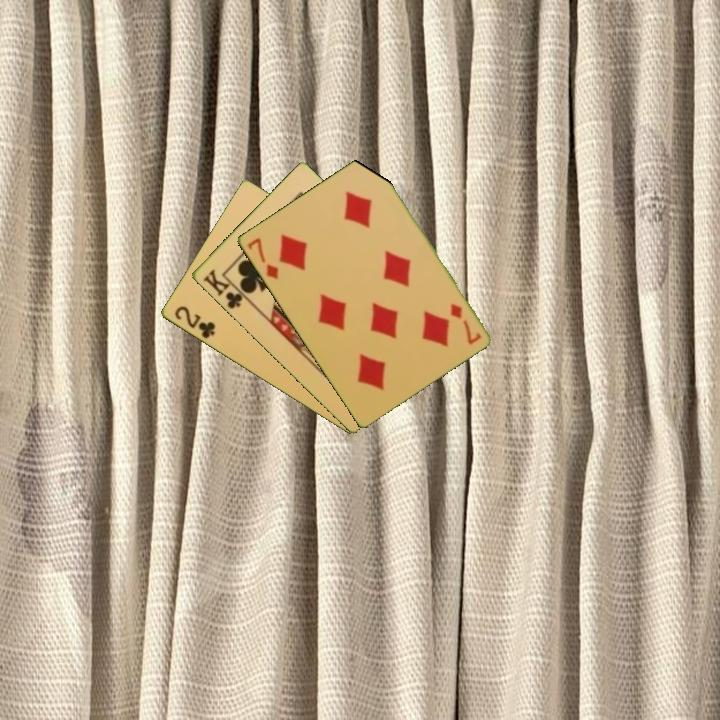2c: (171, 302, 218, 342)
7d: (243, 234, 281, 282), (446, 300, 484, 347)
Kc: (199, 265, 251, 312)
